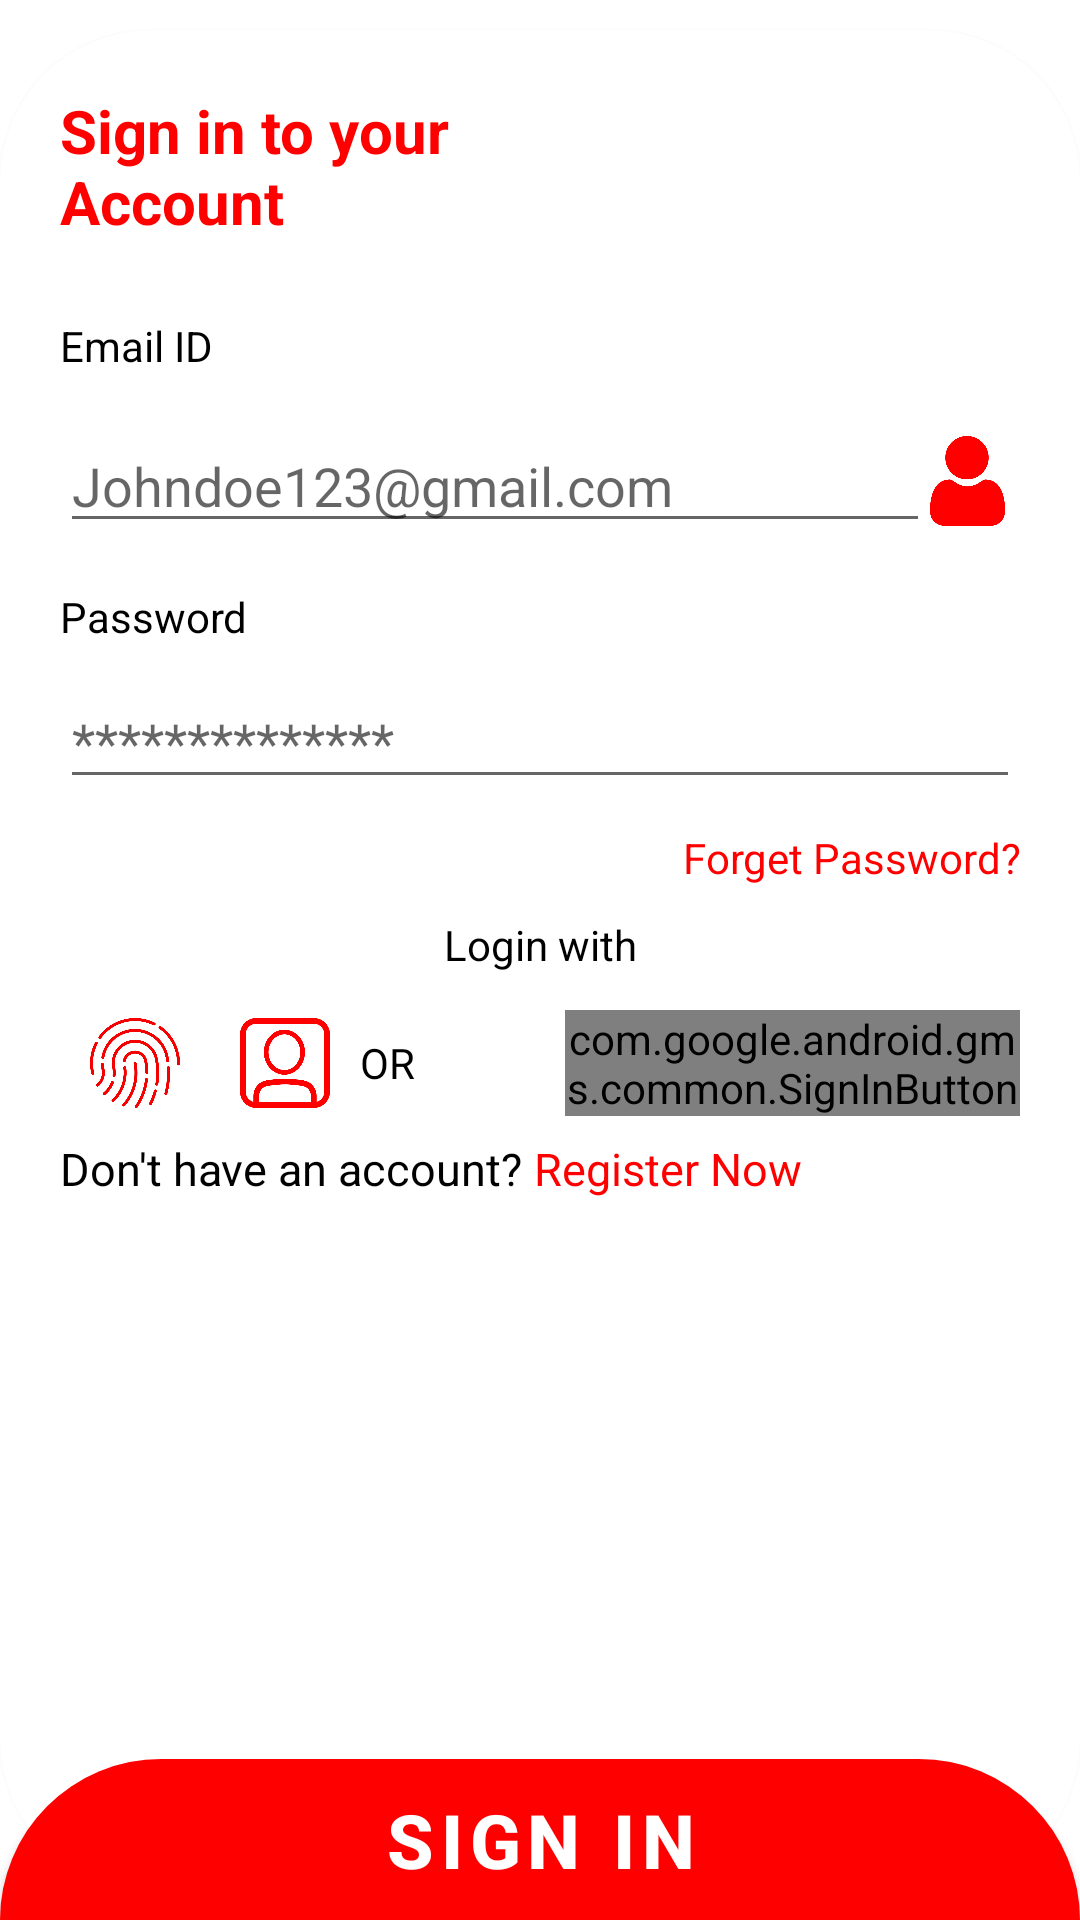

Where icons sit on this 1080px x 1920px app screen, as (x1, y1, x2, y2):
fingerprint: (90, 1018, 180, 1108)
user: (930, 436, 1005, 526)
usersquare: (240, 1018, 330, 1108)
